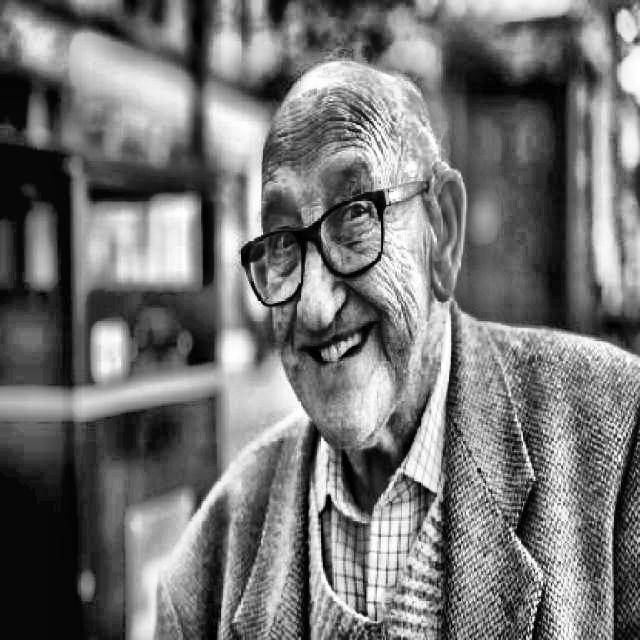happy: (236, 83, 480, 449)
